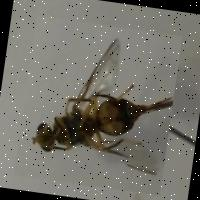Oriental-fruit-fly: (14, 14, 182, 194)
